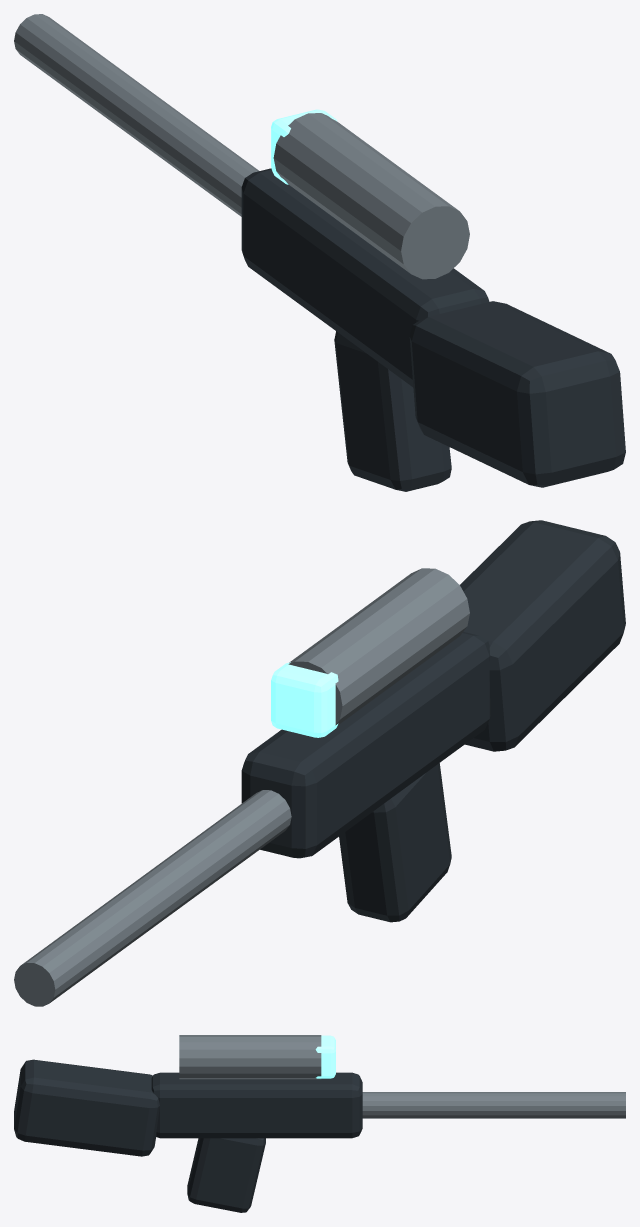
The model's file is MarksmanRifle.fbx.
The picture shows the model from 3 angles, top to bottom: view 1: azimuth 30°, elevation 25°; view 2: azimuth 150°, elevation 25°; view 3: azimuth 270°, elevation 25°; orthographic projection. The views are drawn at different scales.
Parts seen in each view (by area): view 1: Rifle Stock, Rifle Receiver, Rifle Scope, Rifle Barrel, Rifle Magazine, Rifle Scope Glow; view 2: Rifle Receiver, Rifle Stock, Rifle Barrel, Rifle Scope, Rifle Magazine, Rifle Scope Glow; view 3: Rifle Receiver, Rifle Stock, Rifle Barrel, Rifle Scope, Rifle Magazine, Rifle Scope Glow.
Part boxes in pixels (box(x1,y1,x2,y2)): Rifle Stock: box(409, 301, 625, 487); Rifle Receiver: box(241, 168, 489, 387); Rifle Scope: box(273, 113, 469, 279); Rifle Barrel: box(14, 14, 259, 216); Rifle Magazine: box(334, 331, 451, 491); Rifle Scope Glow: box(271, 109, 337, 184); Rifle Receiver: box(241, 632, 490, 858); Rifle Stock: box(460, 520, 625, 751); Rifle Barrel: box(14, 790, 291, 1006); Rifle Scope: box(288, 568, 469, 725); Rifle Magazine: box(339, 763, 451, 922); Rifle Scope Glow: box(271, 662, 338, 737); Rifle Receiver: box(151, 1072, 362, 1138); Rifle Stock: box(14, 1059, 159, 1156); Rifle Barrel: box(362, 1092, 625, 1118); Rifle Scope: box(179, 1035, 321, 1079); Rifle Magazine: box(187, 1138, 265, 1212); Rifle Scope Glow: box(315, 1035, 335, 1078).
Bounding box in the file's own units: 0.22 × 0.6384 × 2.07.
